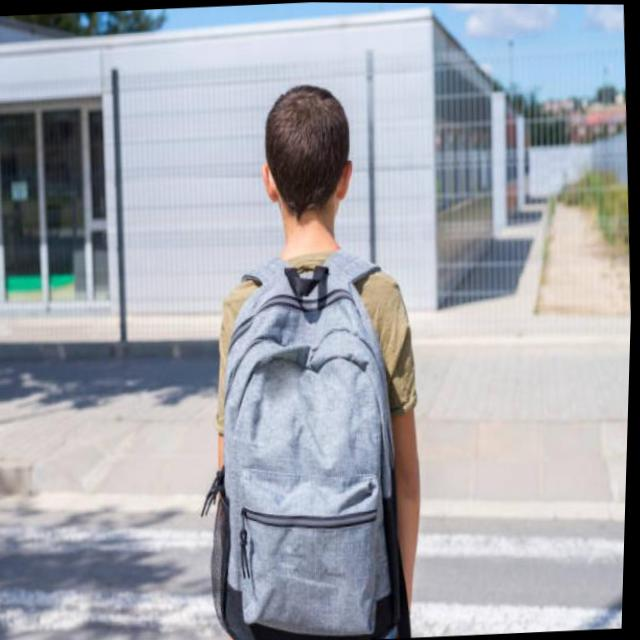no helmet: (243, 69, 369, 262)
